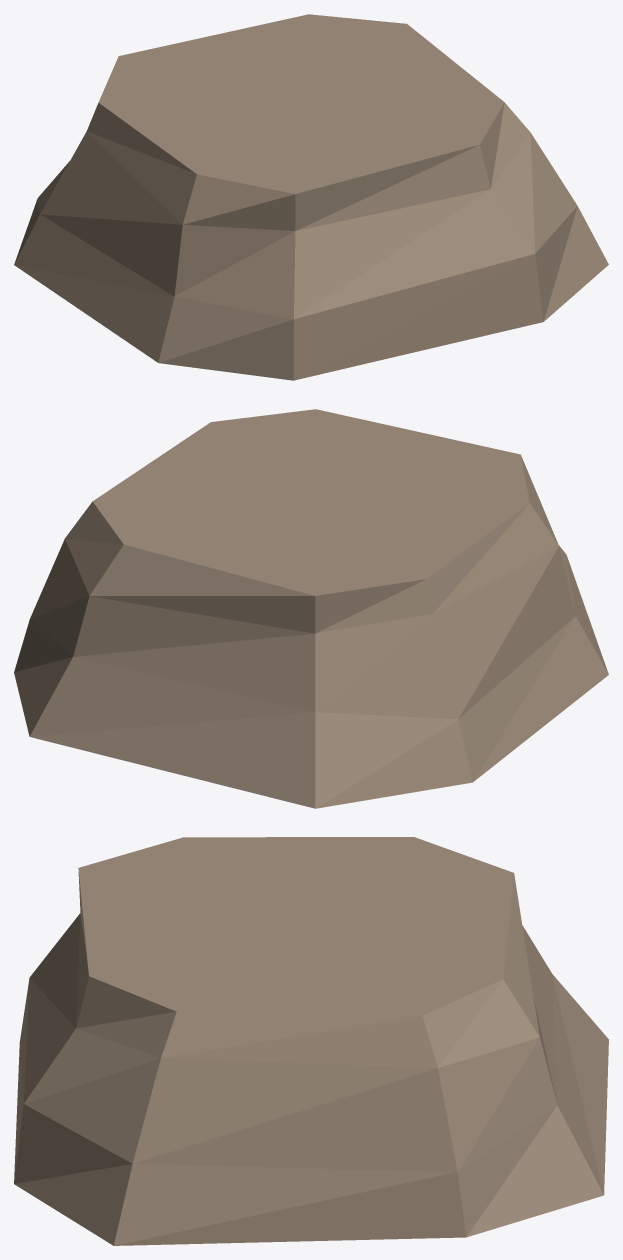
Rendered from magma_escape_rock_2.obj.
3 views of the same model, one above another, from view 1: azimuth 30°, elevation 25°; view 2: azimuth 150°, elevation 25°; view 3: azimuth 270°, elevation 25° (orthographic). The views are drawn at different scales.
Visible parts, largest first — view 1: magma_escape_rock_2; view 2: magma_escape_rock_2; view 3: magma_escape_rock_2.
Part boxes in pixels (x1=…): magma_escape_rock_2: x1=14, y1=14, x2=608, y2=380; magma_escape_rock_2: x1=14, y1=409, x2=608, y2=808; magma_escape_rock_2: x1=14, y1=837, x2=608, y2=1245.
Size of the model in its own units: 2.89 by 1 by 2.84.
